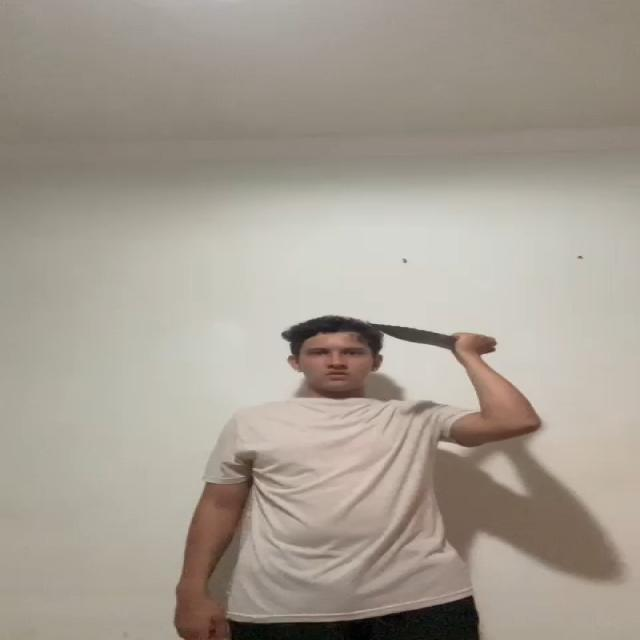knife: (378, 324, 462, 344)
